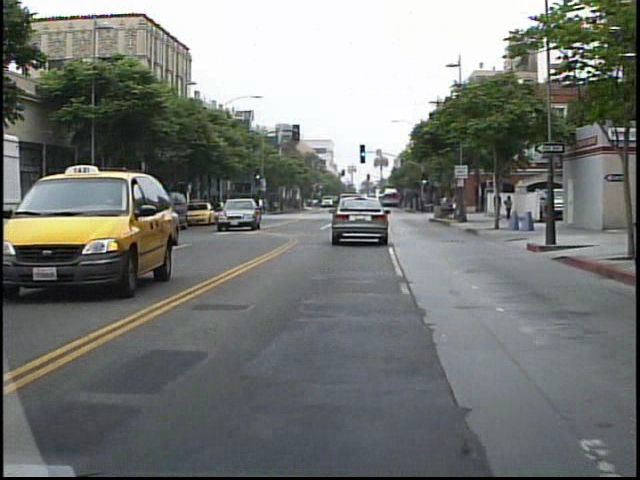person: (487, 186, 502, 226), (433, 189, 451, 220), (497, 191, 511, 224), (255, 193, 267, 215)
